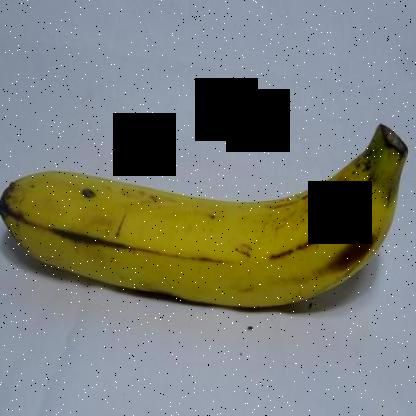ripe: (1, 140, 399, 309)
